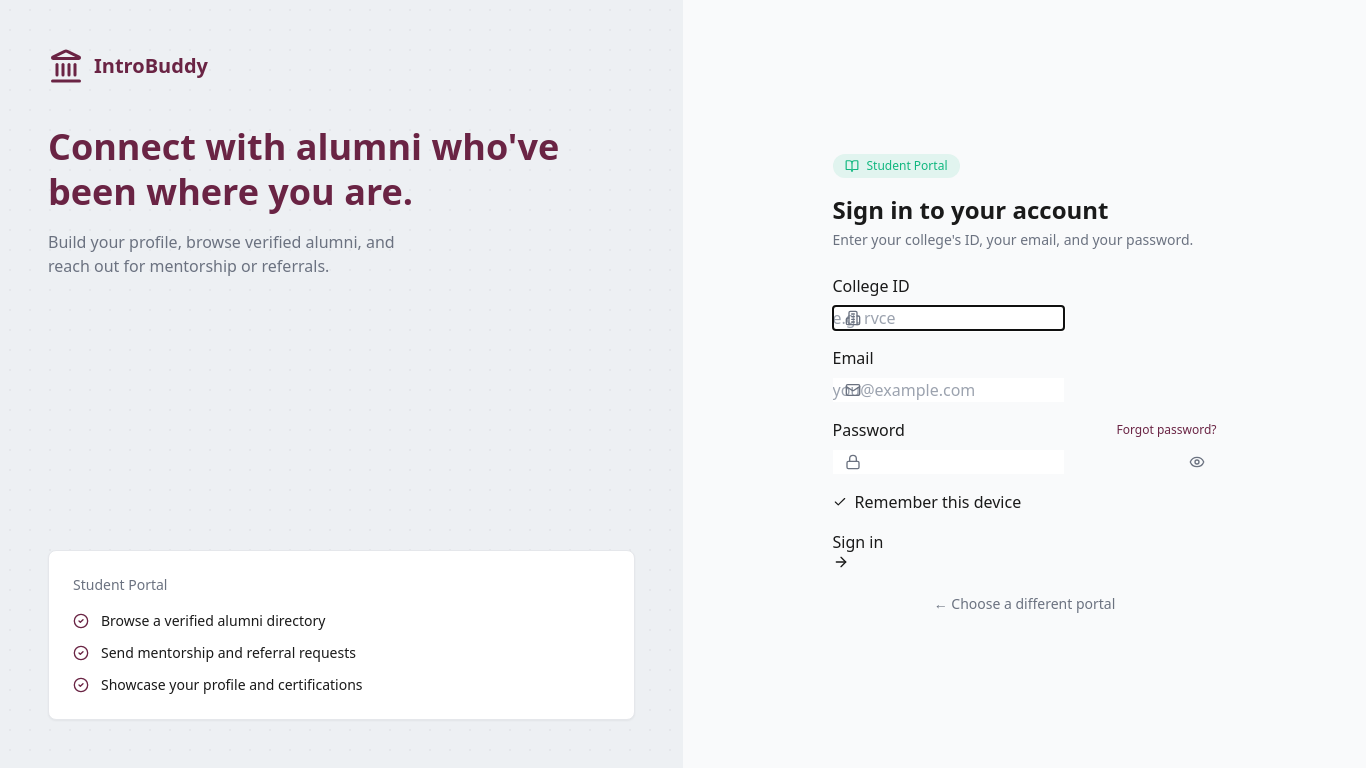
RoleLoginPage › shows the backend's error message on failed login
Type "rvce" into the field labelled "College ID" at (948, 318), box [832,306,1064,330]
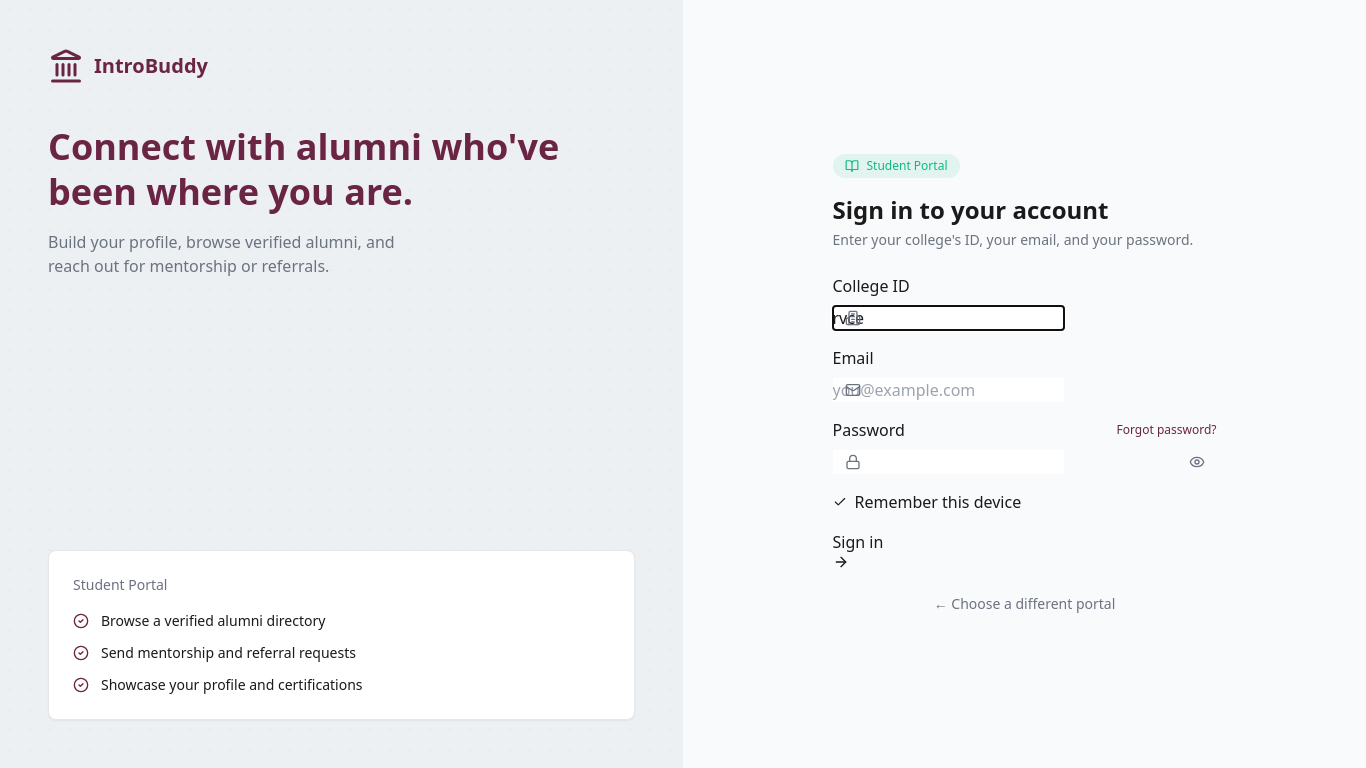
Type "student@example.com" into the field labelled "Email" at (948, 390), box [832,378,1064,402]
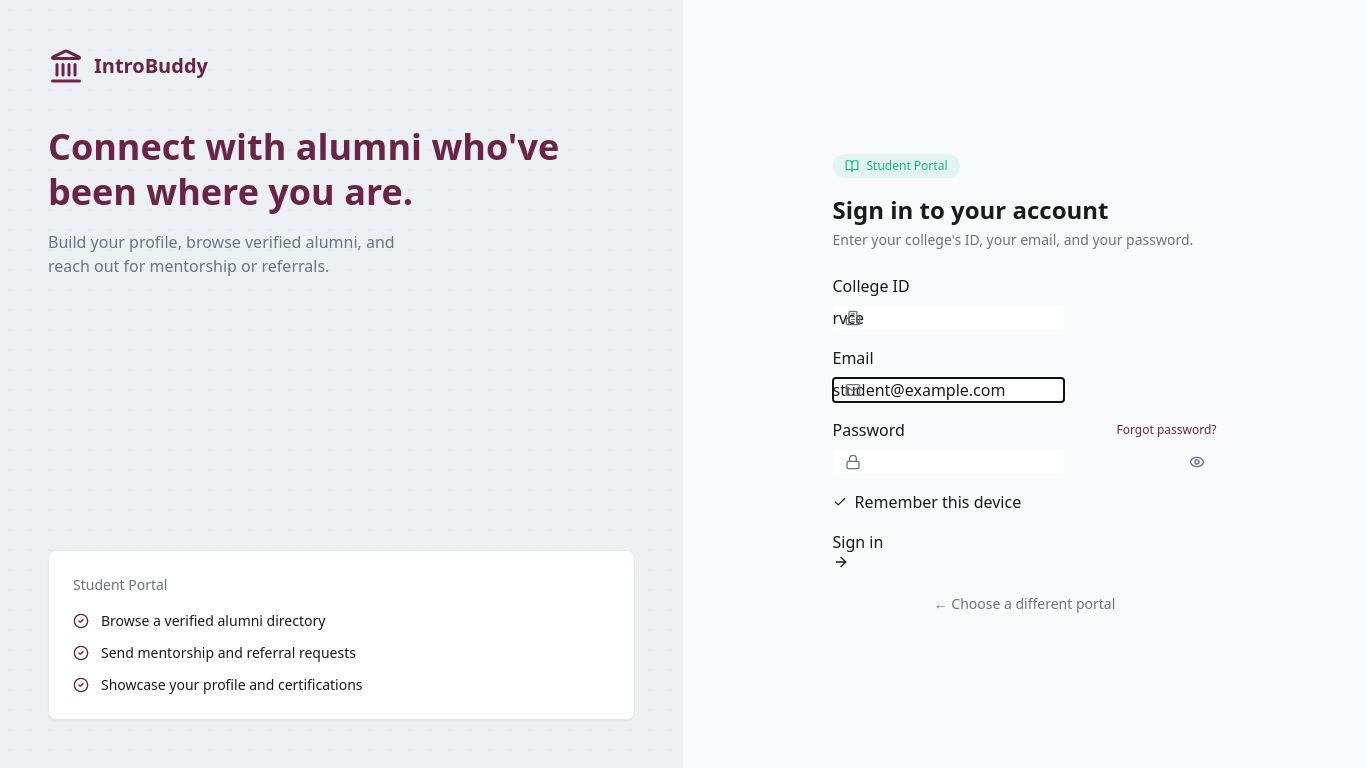
Type "wrong-password" into the password field labelled "Password" at (948, 462), box [832,450,1064,474]
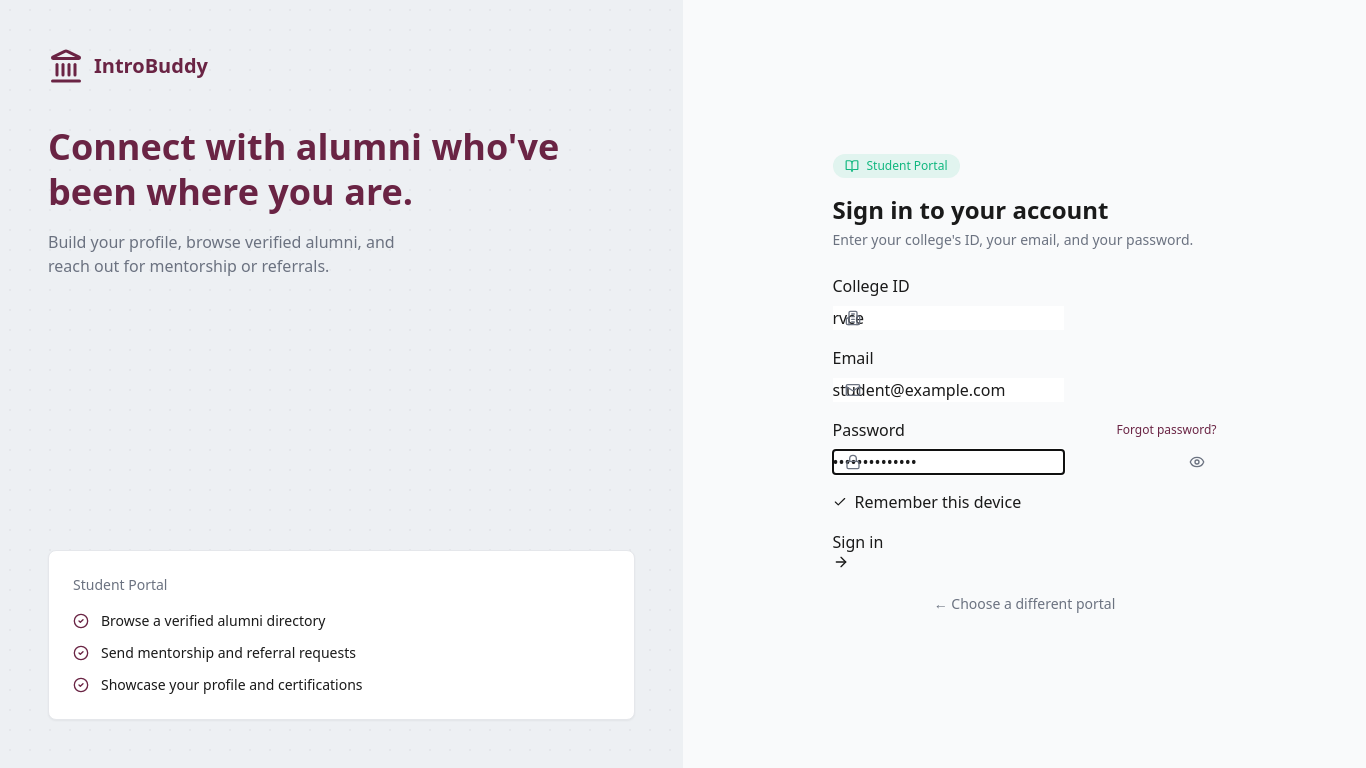
Click the button "Sign in" at (858, 550), box [832,530,883,570]
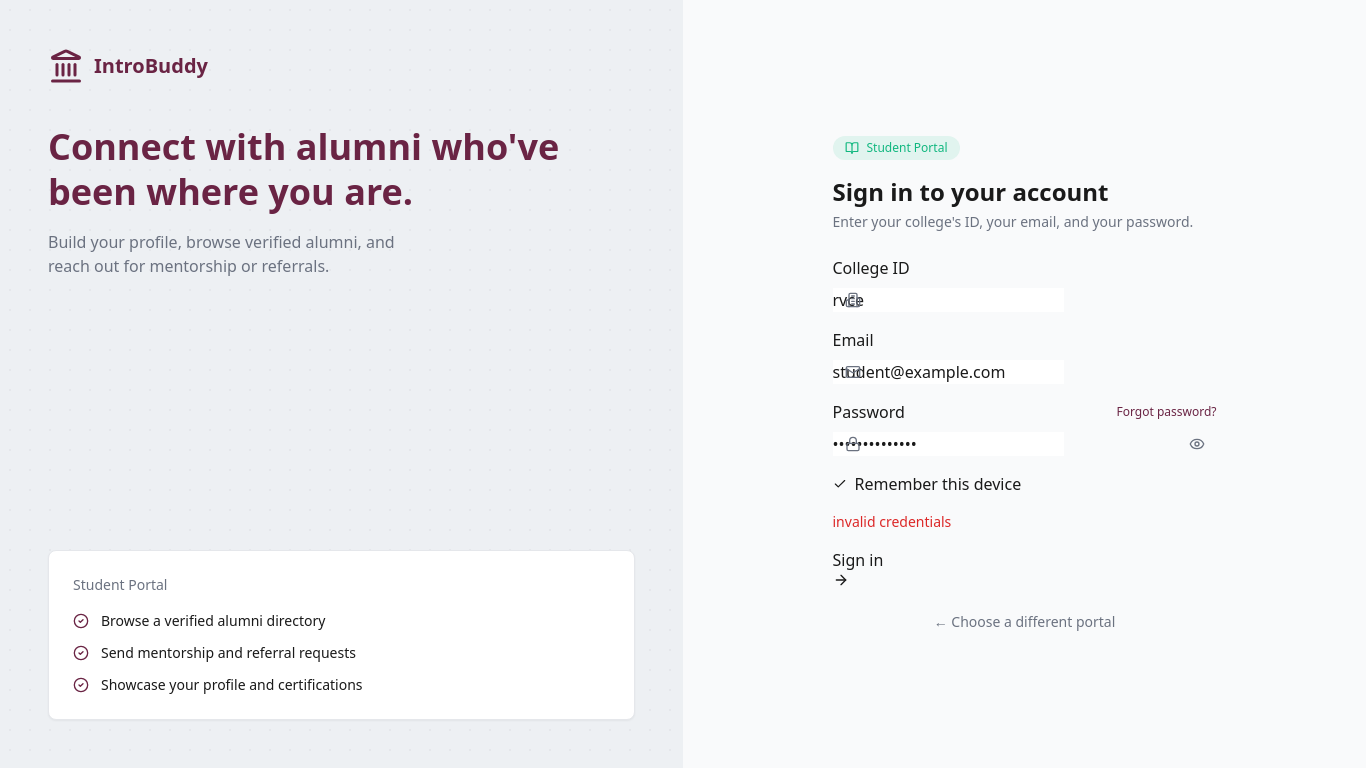
Now the text "invalid credentials" is shown, box [832,512,951,531]
